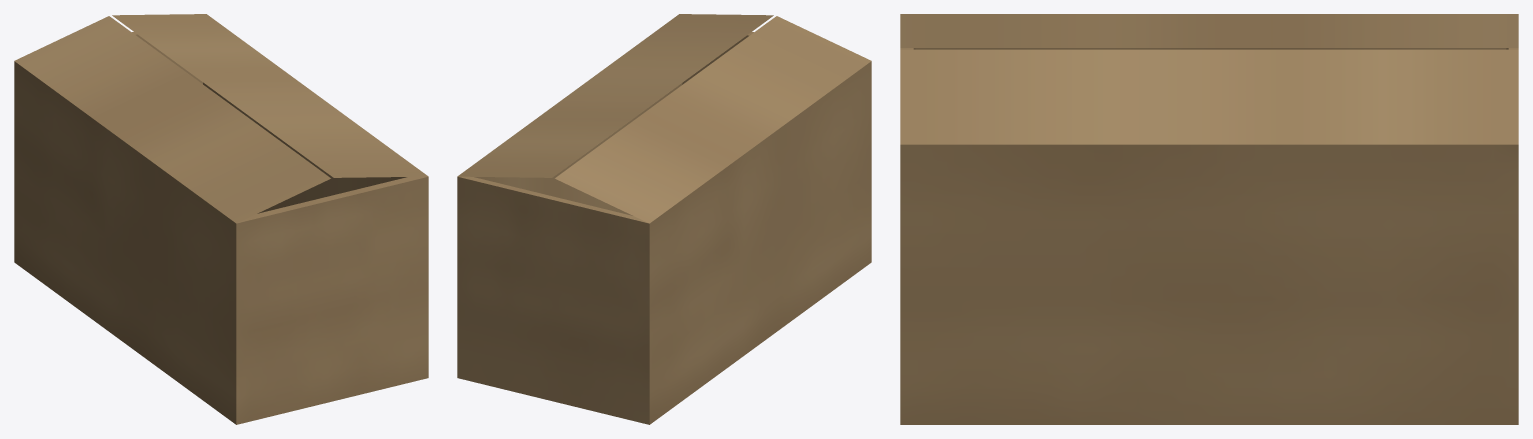
The model's file is cardboard wooden box.fbx.
The picture shows the model from 3 angles, left to right: view 1: azimuth 30°, elevation 25°; view 2: azimuth 150°, elevation 25°; view 3: azimuth 270°, elevation 25°; orthographic projection. The views are drawn at different scales.
Parts seen in each view (by area): view 1: pCube1; view 2: pCube1; view 3: pCube1.
Boxes of the visible parts, <box> form: pCube1: <box>14,14,428,424</box>; pCube1: <box>457,14,871,424</box>; pCube1: <box>900,14,1518,424</box>.
Size of the model in its own units: 10 by 11.09 by 20.
